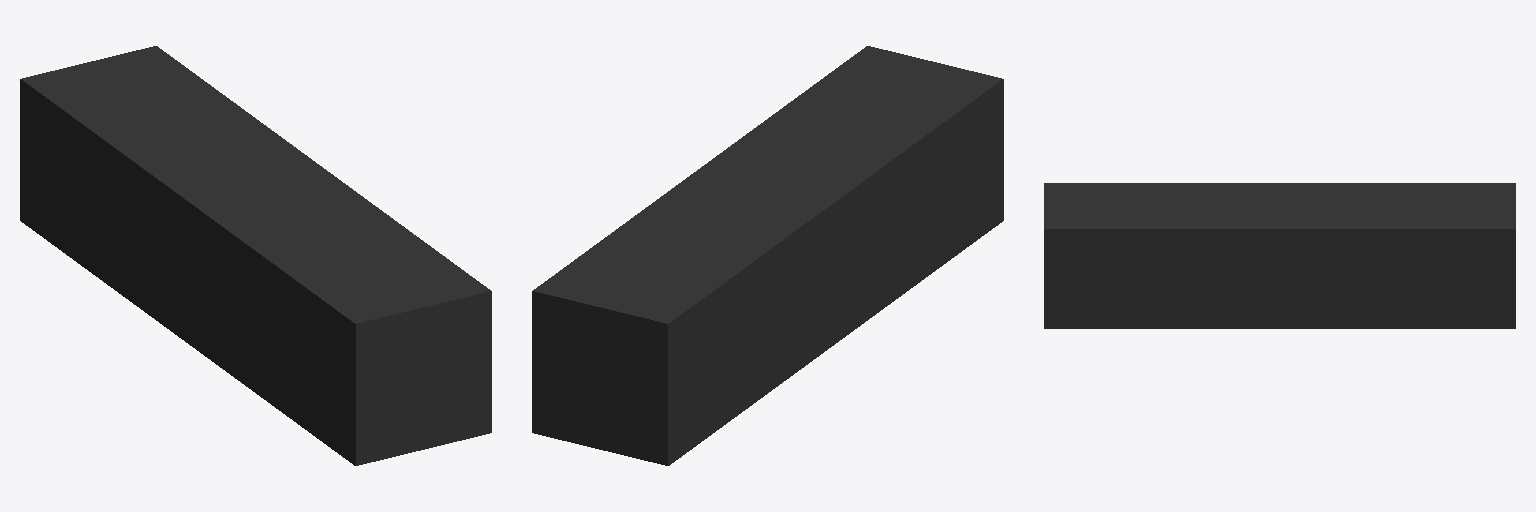
The robot description file, URDF, robot "backwall":
<?xml version="1.0"?> 
<robot name="backwall">
    <!-- Colors --> 
    <material name="gray"> 
        <color rgba="0.25 0.25 0.25 1"/>
    </material>

    <link name="base_link">
        <visual>
            <geometry>
                <box size="0.25 1.067 0.25"/>
            </geometry>
            <material name="gray"/>
        </visual>
        <collision>
            <geometry>
                <box size="0.25 1.067 0.25"/>
            </geometry>
        </collision>
    </link>
</robot>

--- Render facts (derived) ---
3 views of the same robot in one strip: view 1: azimuth 30°, elevation 25°; view 2: azimuth 150°, elevation 25°; view 3: azimuth 270°, elevation 25° (orthographic).
Model backwall with 1 links and 0 joints (none), rooted at base_link, posed every joint at zero.
Links seen in each view (by area): view 1: base_link; view 2: base_link; view 3: base_link.
Link boxes in pixels (x1=…): base_link: x1=20, y1=46, x2=491, y2=465; base_link: x1=532, y1=46, x2=1003, y2=465; base_link: x1=1044, y1=183, x2=1515, y2=328.
Bounding box of the posed robot: 0.25 × 1.07 × 0.25 m (x, y, z).
Geometry: primitives only (box / cylinder / sphere), no mesh files.